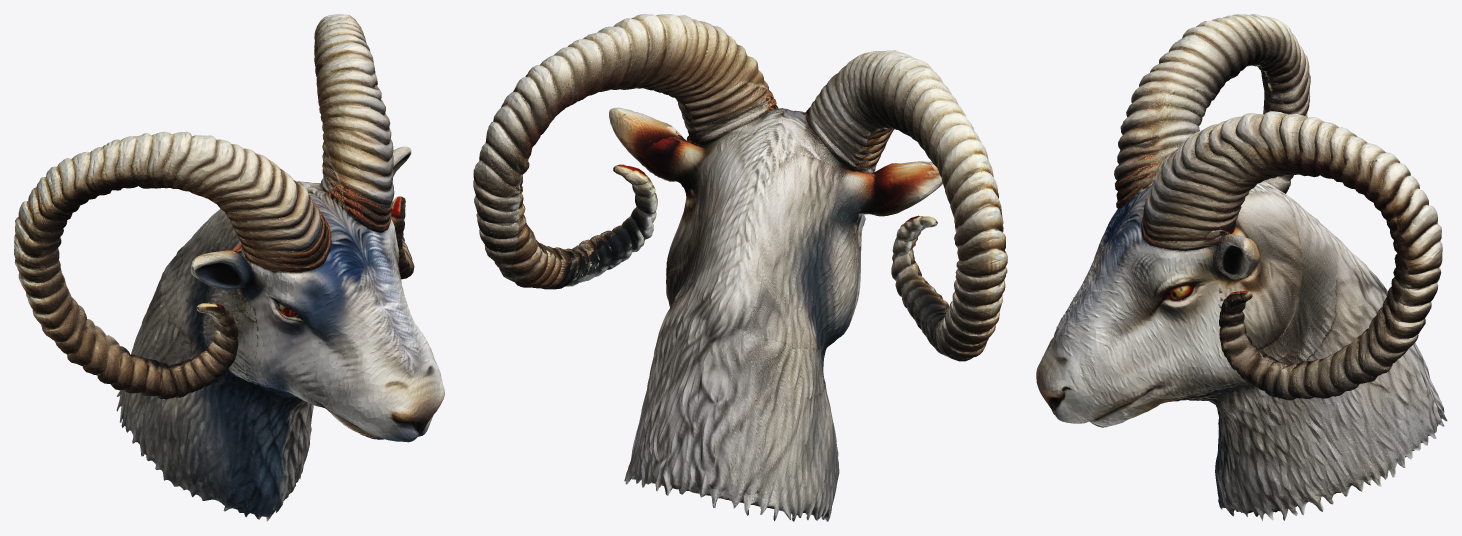
Rendered from textured_ours.glb.
The picture shows the model from 3 angles, left to right: view 1: azimuth 30°, elevation 25°; view 2: azimuth 150°, elevation 25°; view 3: azimuth 270°, elevation 25°; orthographic projection. The views are drawn at different scales.
Parts seen in each view (by area): view 1: Node; view 2: Node; view 3: Node.
Boxes of the visible parts, <box> form: Node: <box>14,14,444,521</box>; Node: <box>473,14,1007,521</box>; Node: <box>1036,14,1447,521</box>.
Size of the model in its own units: 1.99 by 2 by 1.65.
1 material, 1 textured.
